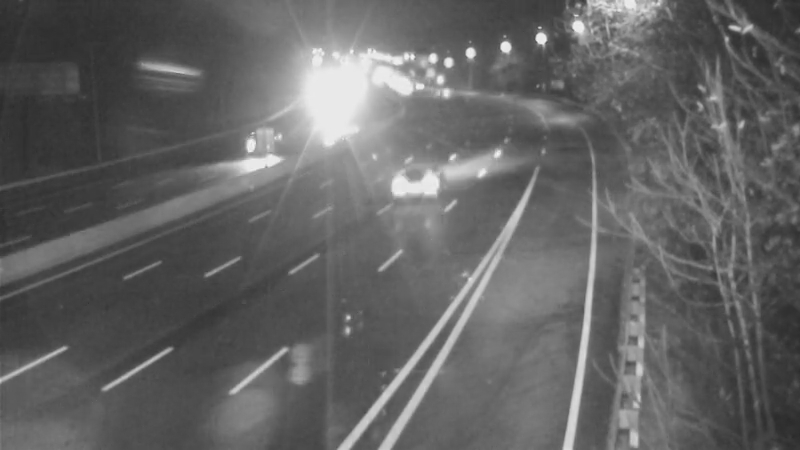vehicle: (366, 148, 446, 228), (415, 66, 465, 116), (227, 121, 277, 171)
